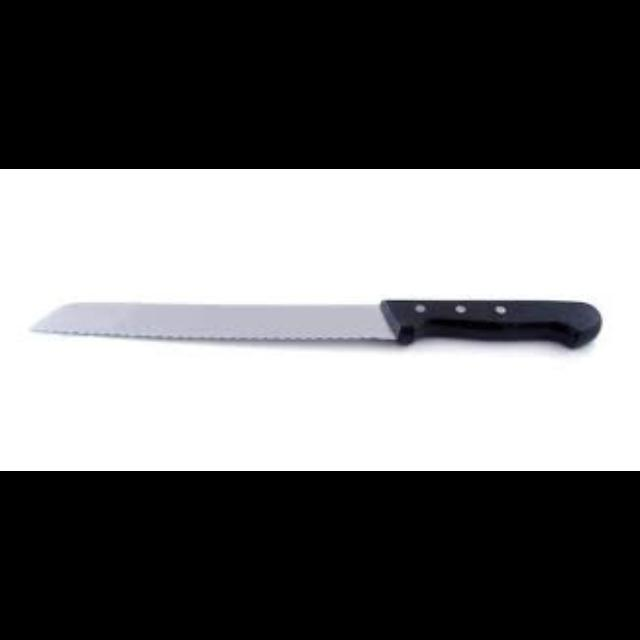Knife: (29, 296, 600, 348)
